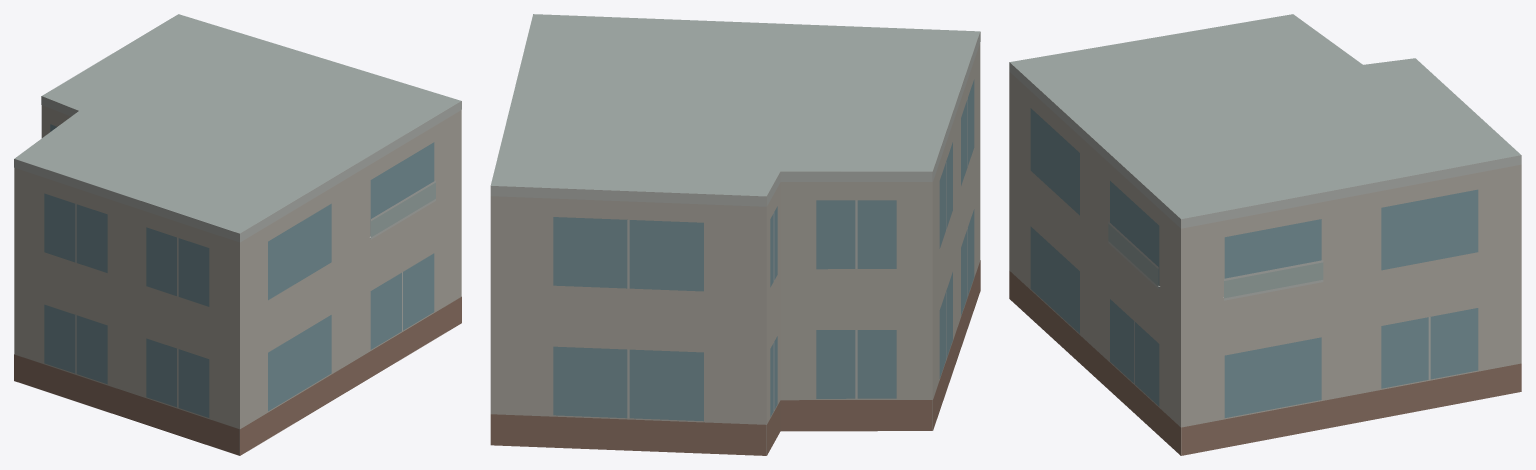
Rendered from survey-upis-32593033.glb.
3 views of the same model, side by side, from view 1: azimuth 30°, elevation 25°; view 2: azimuth 150°, elevation 25°; view 3: azimuth 270°, elevation 25° (orthographic). The views are drawn at different scales.
Parts seen in each view (by area): view 1: survey-upis-32593033.tmp; view 2: survey-upis-32593033.tmp; view 3: survey-upis-32593033.tmp.
Part boxes in pixels (<box>): survey-upis-32593033.tmp: <box>14,14,461,455</box>; survey-upis-32593033.tmp: <box>490,14,980,455</box>; survey-upis-32593033.tmp: <box>1009,14,1521,455</box>.
Bounding box in the file's own units: 11.36 × 6.1 × 11.98.
